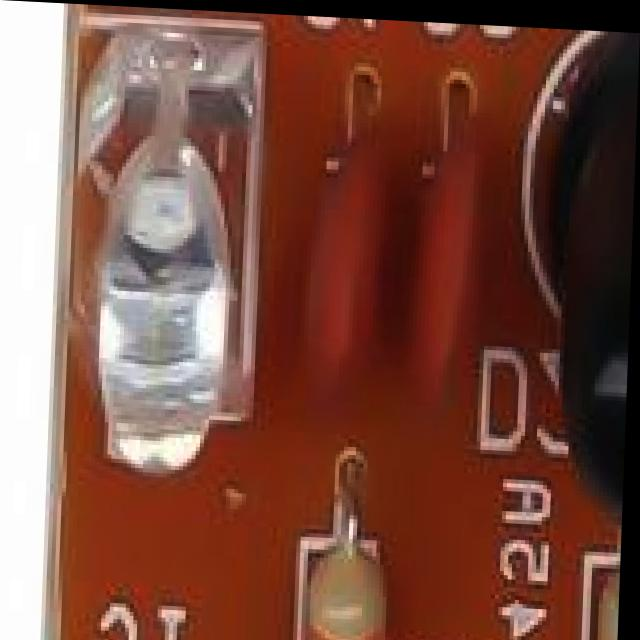LED: (54, 31, 279, 487), (541, 47, 639, 538)
capacitor: (300, 39, 407, 441), (407, 23, 496, 464)
connector: (112, 5, 236, 14)
potentiometer: (629, 26, 640, 126)
resistor: (293, 537, 405, 640), (605, 541, 625, 640)
